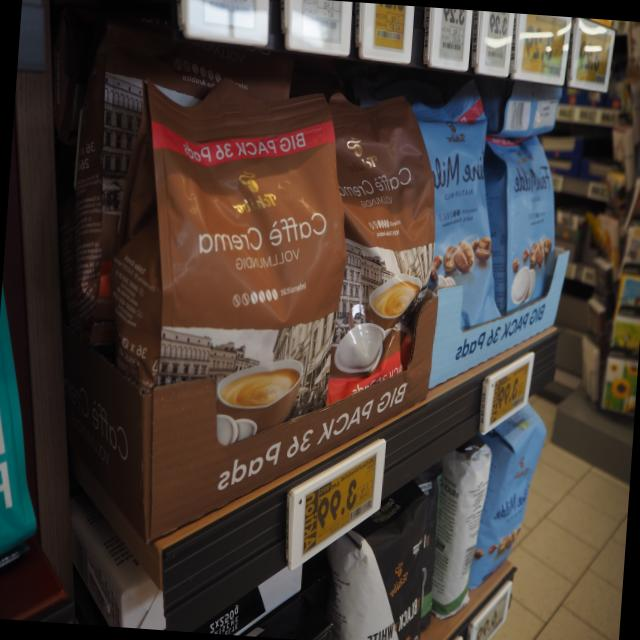BW Bohne: (341, 488, 430, 640)
CC Vollmundig: (124, 58, 351, 534), (324, 87, 429, 442)
FM 36 Pads: (485, 134, 555, 351)
FM Bohne: (415, 117, 509, 372), (469, 385, 557, 595)
